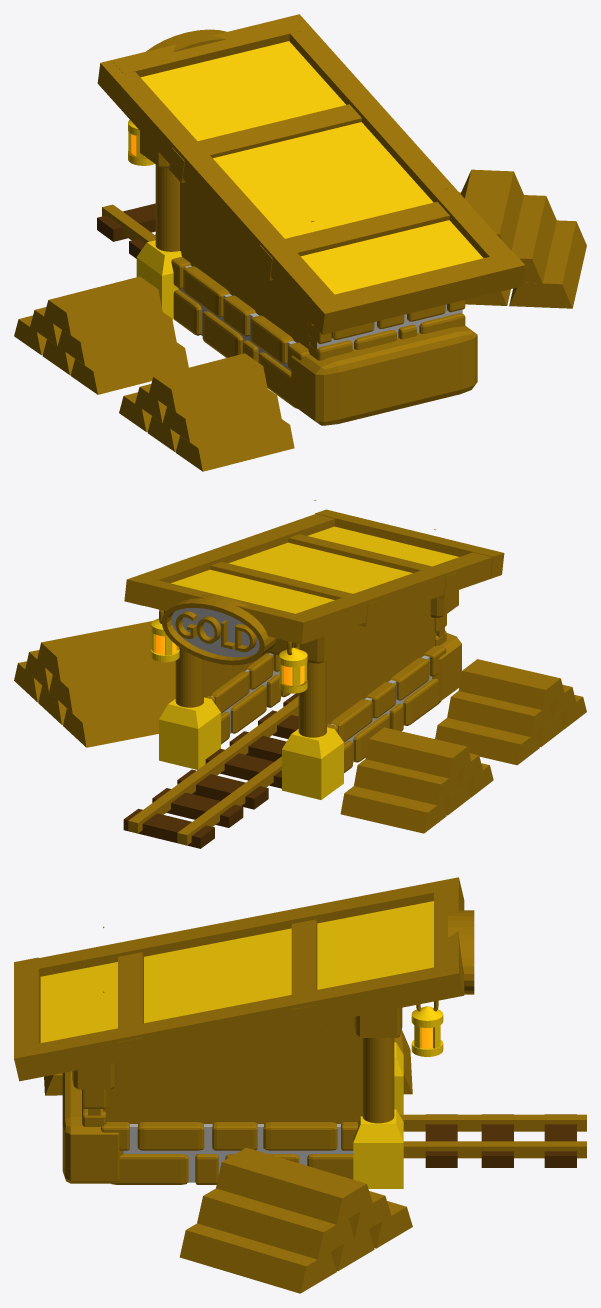
The model's file is mina3.fbx.
3 renders of one model, top to bottom at view 1: azimuth 30°, elevation 25°; view 2: azimuth 150°, elevation 25°; view 3: azimuth 270°, elevation 25°, orthographic. The views are drawn at different scales.
Parts seen in each view (by area): view 1: Cube.029; view 2: Cube.029; view 3: Cube.029.
Part boxes in pixels (x1,y1,x2,y2): Cube.029: [14, 14, 586, 471]; Cube.029: [14, 500, 586, 848]; Cube.029: [14, 877, 586, 1293].
Size of the model in its own units: 1869 by 794 by 1814.
